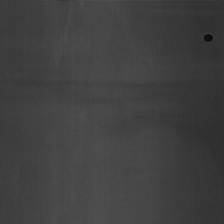punching_hole: (202, 31, 214, 43)
